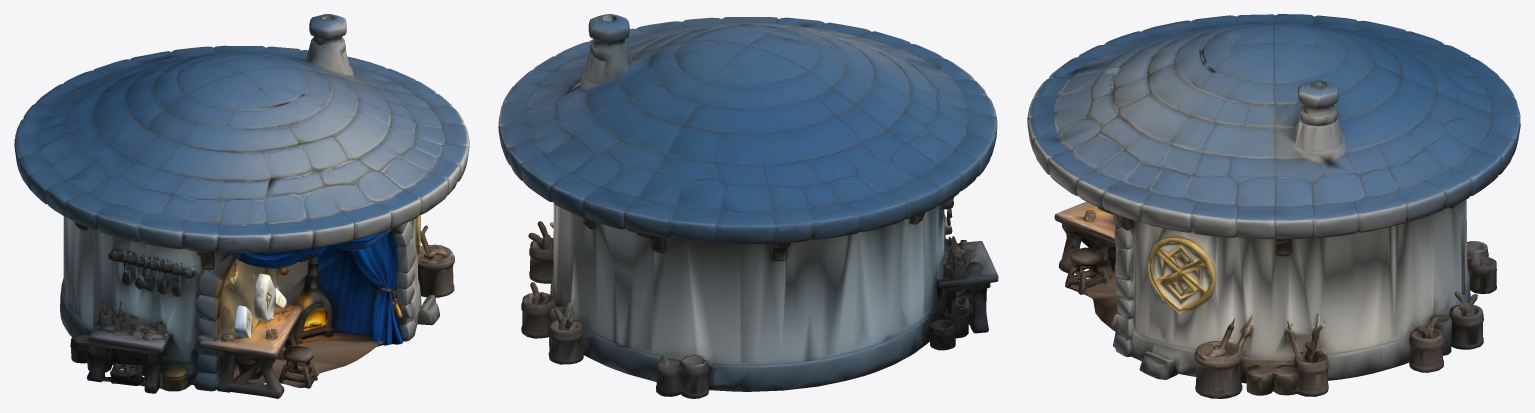
Rendered from elf_forge.glb.
3 renders of one model, left to right at view 1: azimuth 30°, elevation 25°; view 2: azimuth 150°, elevation 25°; view 3: azimuth 270°, elevation 25°, orthographic. The views are drawn at different scales.
Parts seen in each view (by area): view 1: node_0; view 2: node_0; view 3: node_0.
Boxes of the visible parts, x1,y1,x2,y2 form: node_0: [14, 14, 469, 398]; node_0: [498, 14, 998, 398]; node_0: [1027, 14, 1520, 398].
Size of the model in its own units: 1.03 by 0.6342 by 1.03.
1 material, 1 textured.
